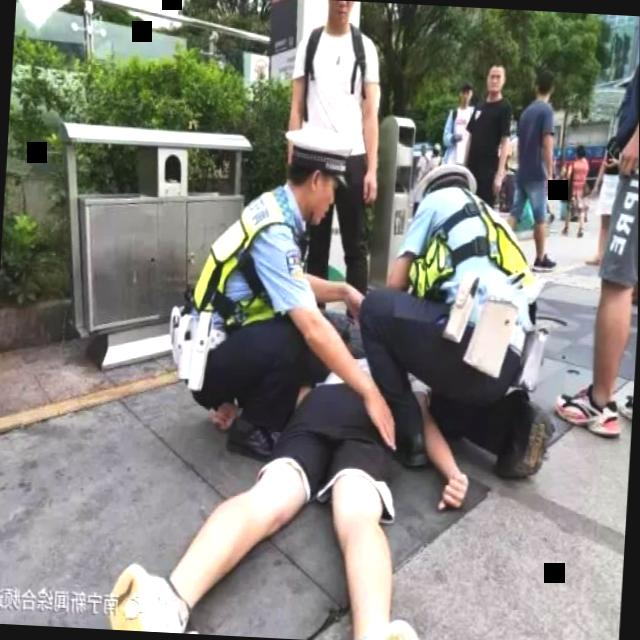Fall-Detected: (93, 261, 461, 640)
